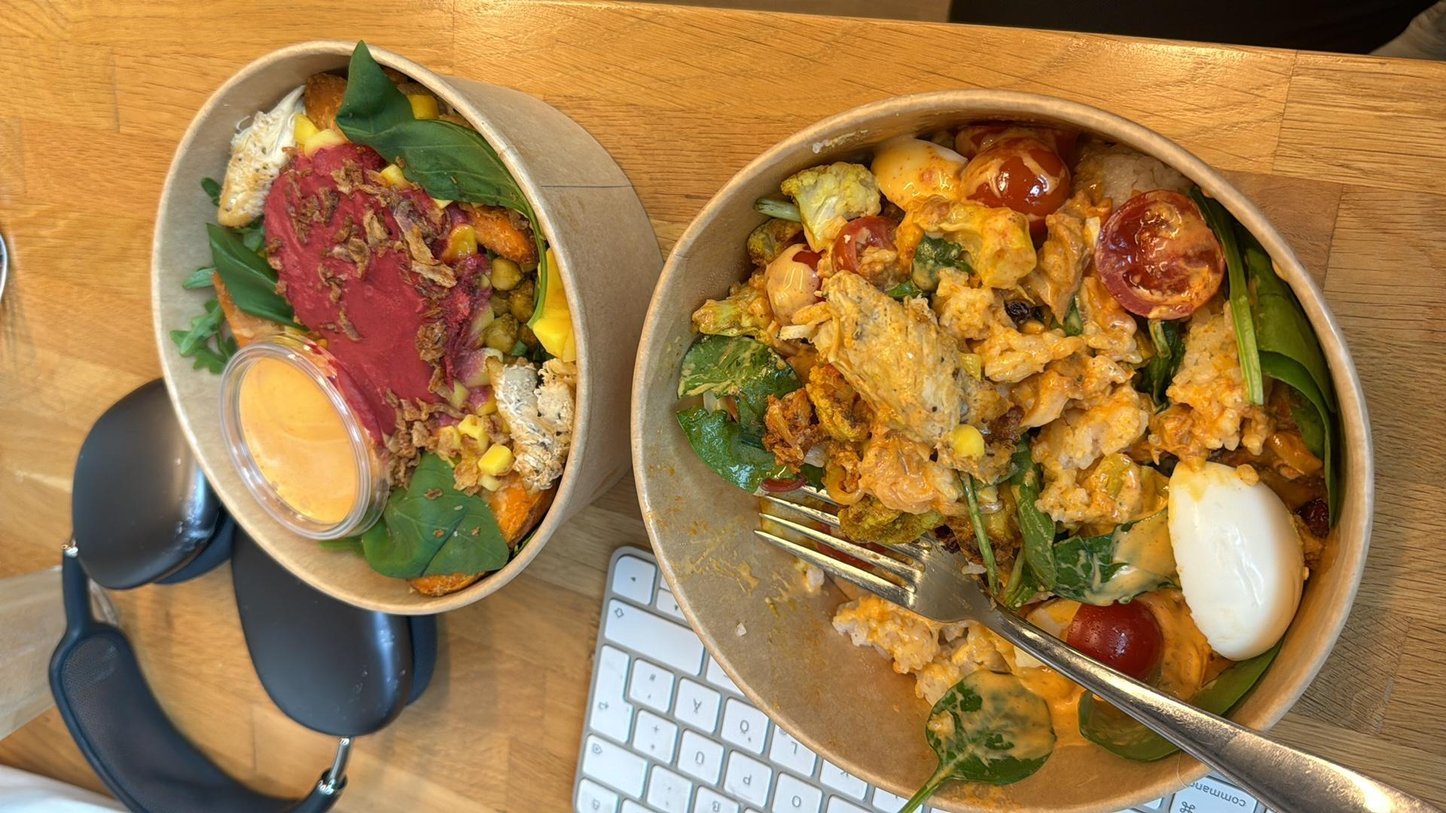cauliflower: (782, 159, 877, 248)
corn: (938, 421, 988, 462), (290, 114, 337, 157), (455, 410, 490, 448), (477, 445, 516, 477)
lettuce: (342, 64, 519, 217), (955, 471, 1170, 593), (1226, 262, 1346, 474), (887, 680, 1047, 813), (1083, 659, 1275, 761), (677, 348, 809, 491), (372, 469, 514, 580), (207, 228, 301, 328), (168, 273, 235, 372)
tomato: (1098, 194, 1224, 317), (957, 137, 1071, 219), (1069, 597, 1158, 676), (827, 214, 906, 276)
